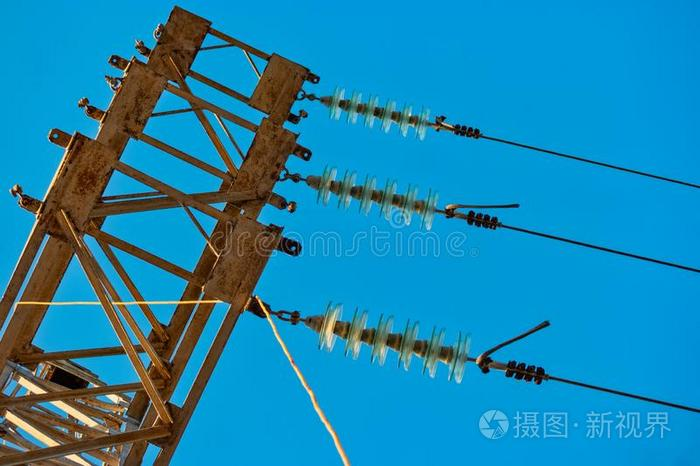insulator: (318, 302, 472, 386), (311, 168, 437, 234), (326, 83, 430, 139)
